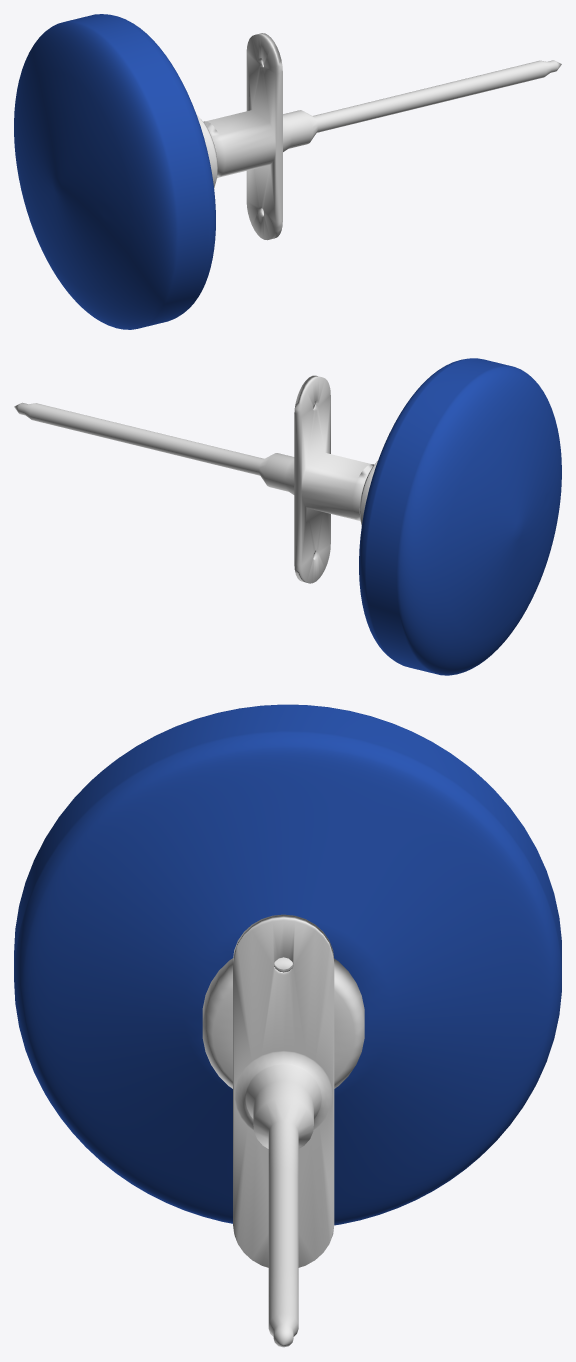
The model's file is AgujaCookFBX.fbx.
The picture shows the model from 3 angles, top to bottom: view 1: azimuth 30°, elevation 25°; view 2: azimuth 150°, elevation 25°; view 3: azimuth 270°, elevation 25°; orthographic projection. The views are drawn at different scales.
Parts seen in each view (by area): view 1: PS1, PI1; view 2: PS1, PI1; view 3: PS1, PI1.
Boxes of the visible parts, x1,y1,x2,y2 form: PS1: [14, 14, 215, 329]; PI1: [196, 33, 561, 240]; PS1: [359, 358, 561, 675]; PI1: [14, 375, 377, 583]; PS1: [14, 704, 561, 1225]; PI1: [202, 914, 364, 1347].
Size of the model in its own units: 49.79 by 26.99 by 26.98.
